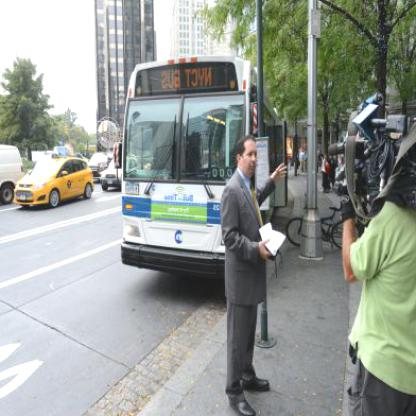bus: (113, 57, 288, 280)
